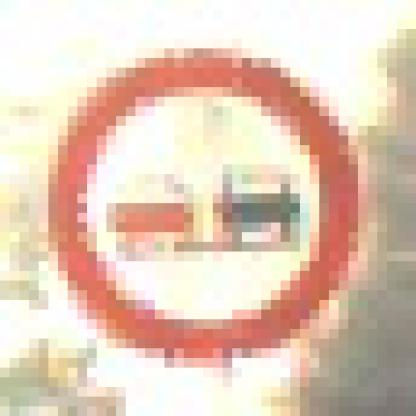No Overtaking: (49, 49, 369, 359)
